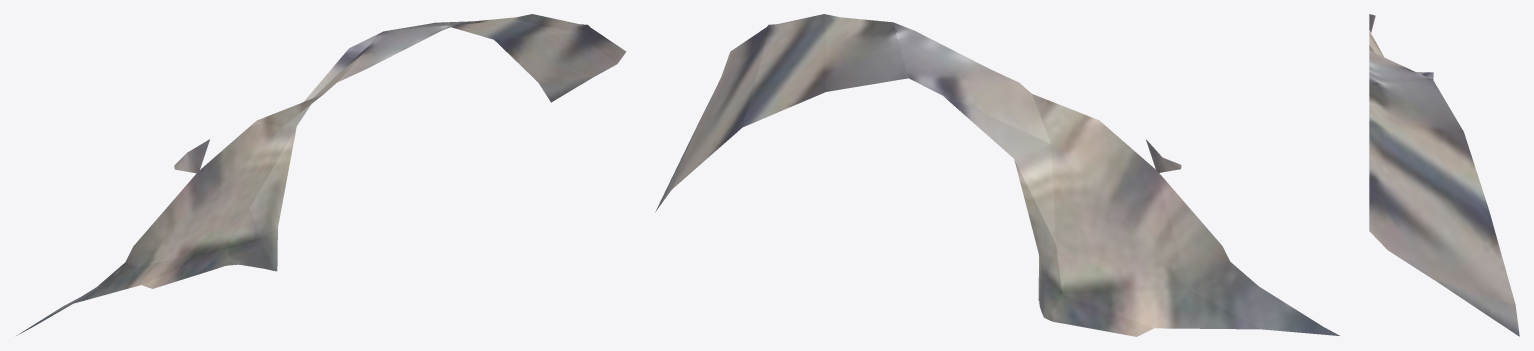
Rendered from Tile__003__007_L20_000230.glb.
The picture shows the model from 3 angles, left to right: view 1: azimuth 30°, elevation 25°; view 2: azimuth 150°, elevation 25°; view 3: azimuth 270°, elevation 25°; orthographic projection.
Visible parts, largest first — view 1: root; view 2: root; view 3: root.
Part boxes in pixels (x1=…): root: x1=16, y1=14, x2=626, y2=335; root: x1=655, y1=14, x2=1339, y2=336; root: x1=1369, y1=14, x2=1519, y2=336.
Size of the model in its own units: 23.79 by 8.3 by 5.08.
Materials: 1 (1 with a texture image).
